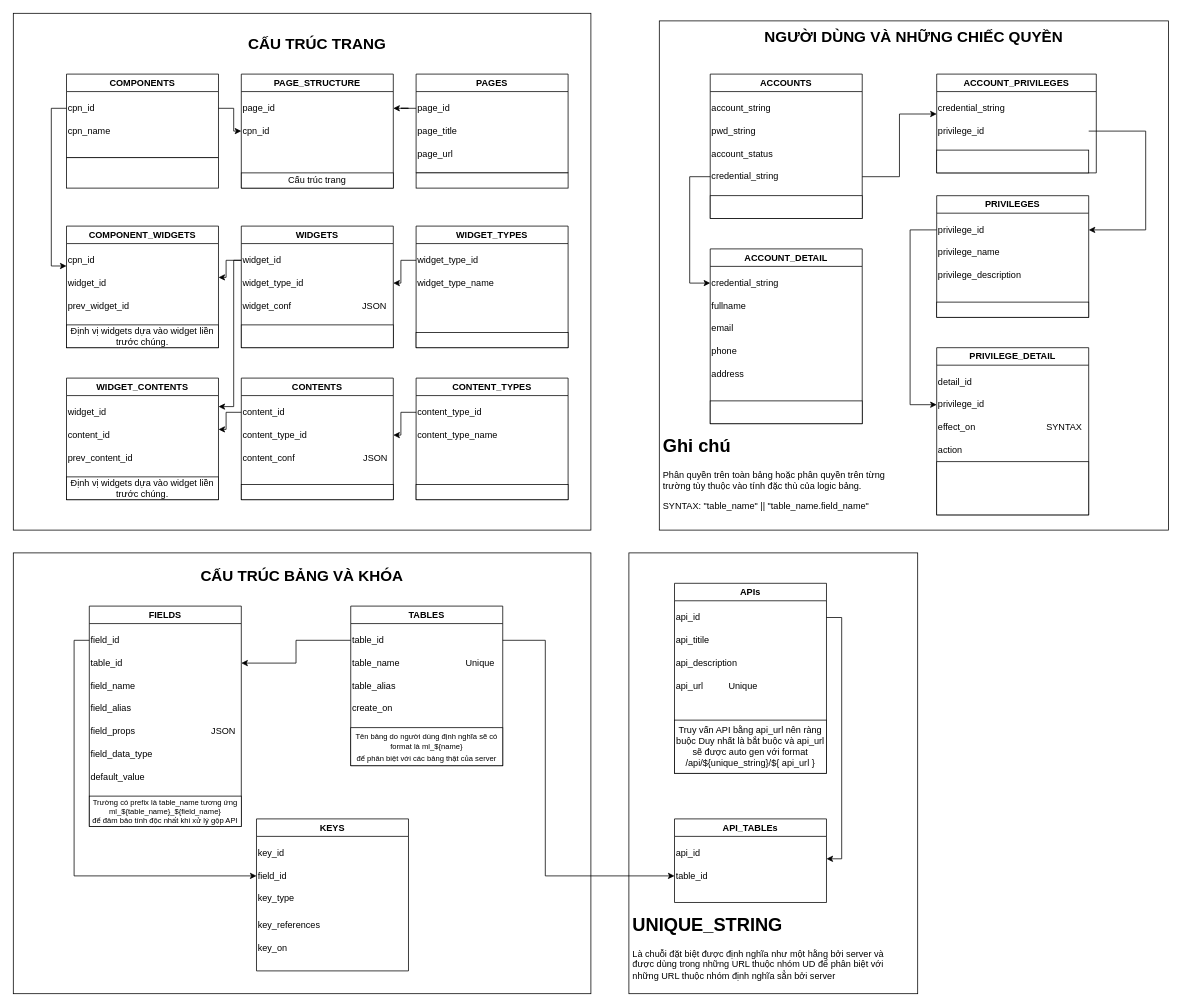
Some shapes in this 1182 by 1007 pixel diagram are drawn without their labels. Each missing label, with the centre of its shape:
Các khối được định nghĩa trước và thay đổi thuộc tính theo người dùng.: the point at 317,336
Cấp quyền cho người dùng: the point at 1012,161
Người dùng không có quyền quản trị: the point at 785,206
Những thành phần cơ bản được định nghĩa sẳn như nav-bar, footer,...: the point at 142,172
Nội dung của các widget: the point at 317,492
Phân loại nội dung: the point at 491,492
Phân loại thành phần: the point at 491,340
Quyền nào, trên bảng nào (hoặc trên trường thuộc bảng nào) thì được làm gì.: the point at 1012,488
Thông tin người dùng: the point at 785,412
Thông tin trang: the point at 491,180
Định nghĩa quyền và mô tả: the point at 1012,309
